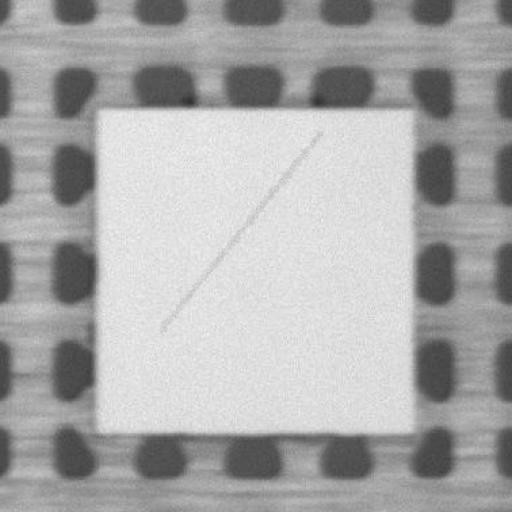DIE_CRACK: (164, 129, 327, 321)
